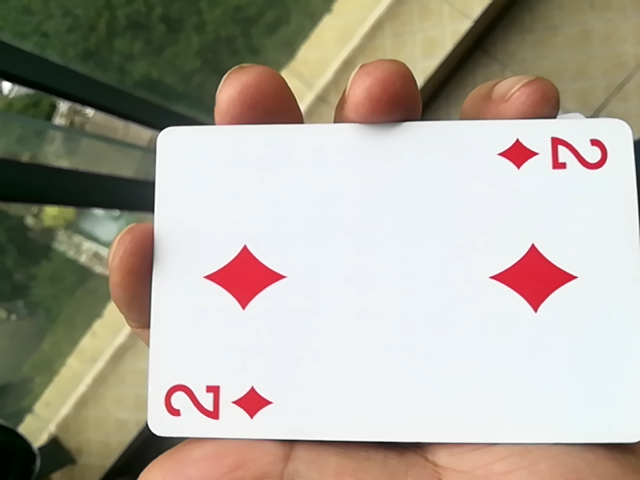fk 2: (136, 114, 635, 467)
